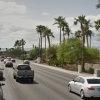Car: (61, 62, 100, 100)
